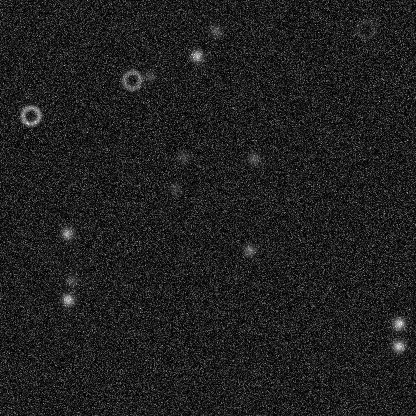Ring: (119, 67, 143, 91), (353, 17, 377, 41), (18, 103, 42, 127)
Spot: (60, 291, 76, 307), (390, 315, 406, 331), (166, 180, 182, 196), (59, 225, 75, 241), (63, 272, 79, 288), (141, 68, 157, 84), (175, 149, 191, 165), (208, 23, 224, 39), (245, 151, 261, 167), (241, 242, 257, 258), (188, 47, 204, 63), (390, 338, 406, 354)
